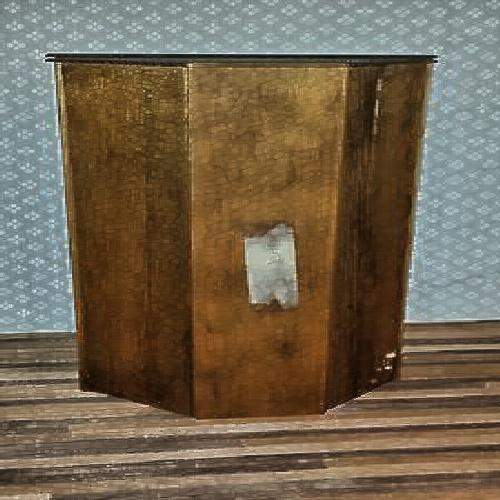cabinet: (51, 49, 420, 411)
